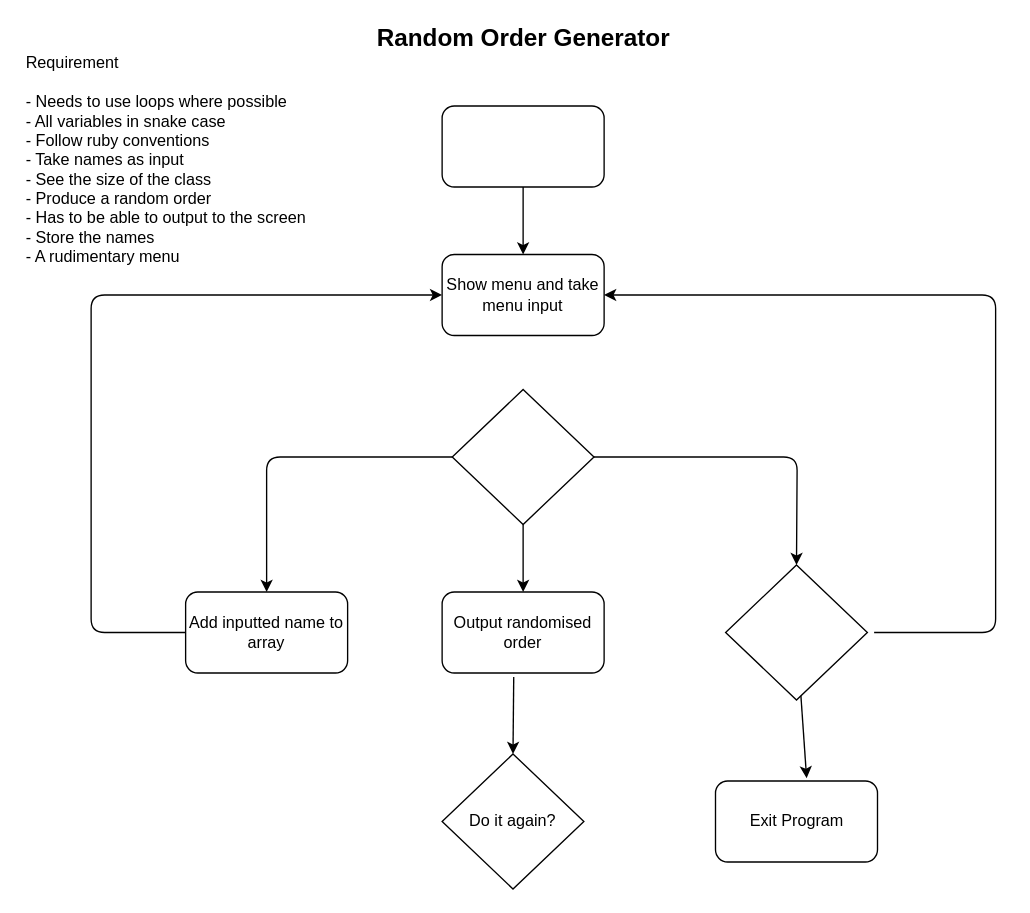
Some shapes in this 1030 by 913 pixel diagram are drawn without their labels. Here are the shapes that lost their labels. From the top down, the box of each, then its label:
(441, 105, 604, 187): Instantiate an array/ other variables
(451, 388, 594, 524): Choose 1,2,3
(724, 564, 867, 700): Are you sure?
